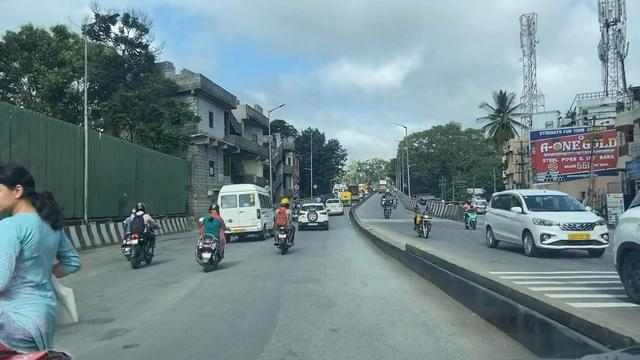HMV: (216, 184, 270, 234)
LMV: (127, 206, 159, 266), (199, 206, 223, 269), (271, 201, 296, 256), (301, 203, 329, 231)
UnsurfacedRoad: (269, 266, 328, 333)
